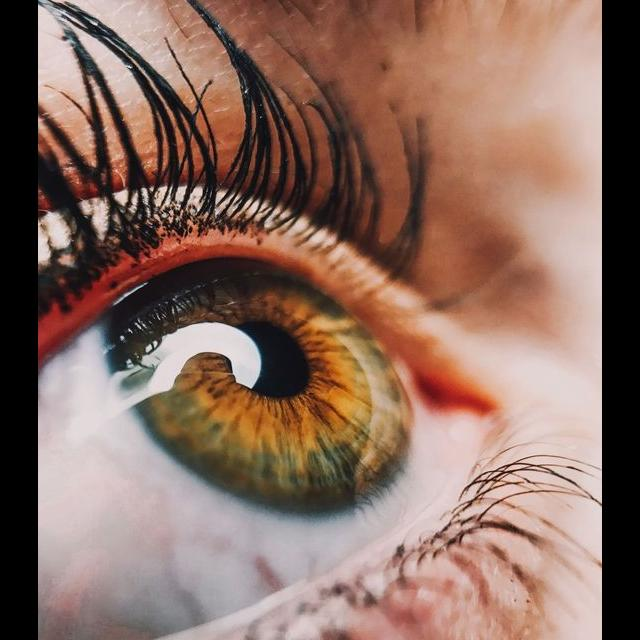eye: (40, 234, 455, 640)
iris: (100, 254, 418, 522)
